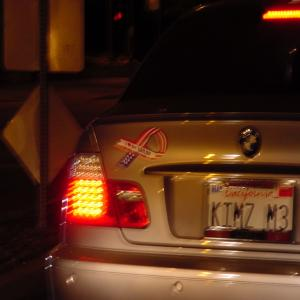Vehicle-registration-plate: (208, 178, 299, 244)
